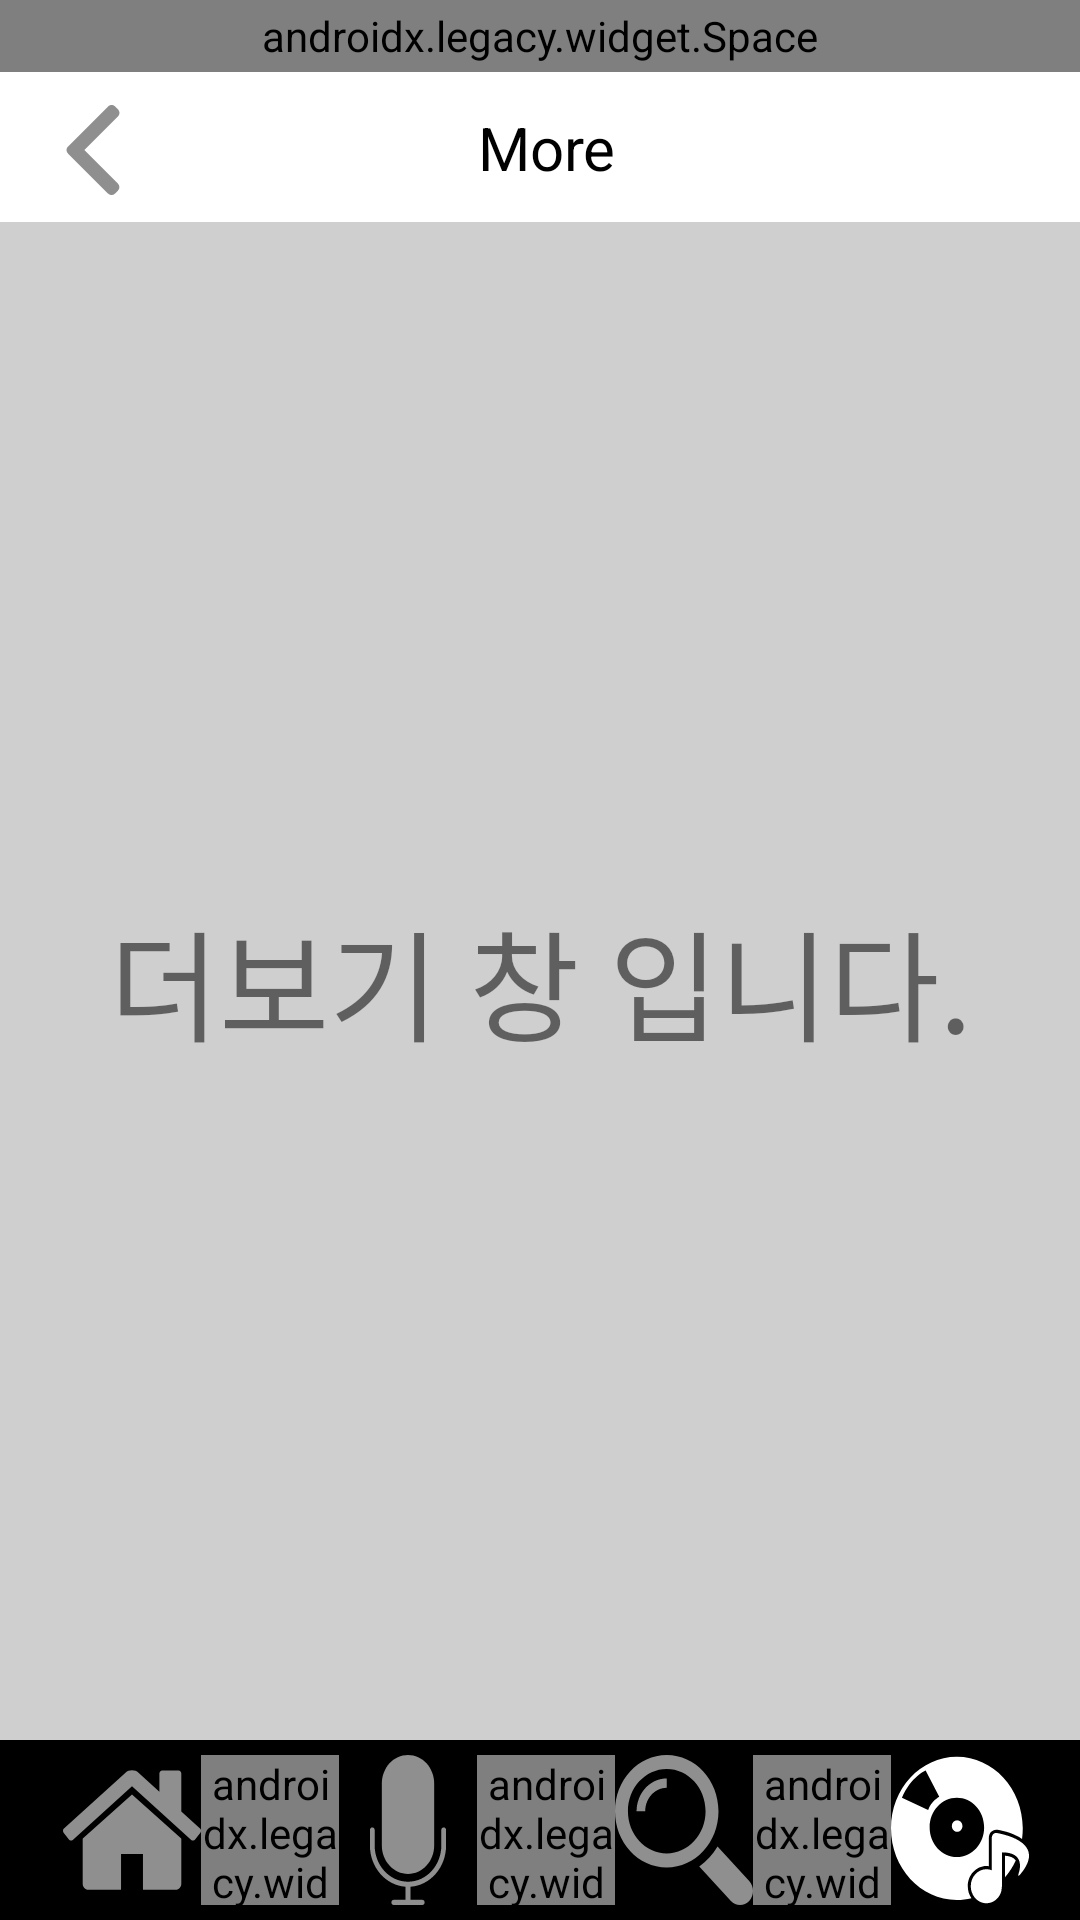

Where to tap for icons on this 1080w x 1920h app screen, as [x,y]:
left arrow: [93,150]
magnifier: [684,1830]
microphone: [408,1830]
music album clicked: [960,1830]
